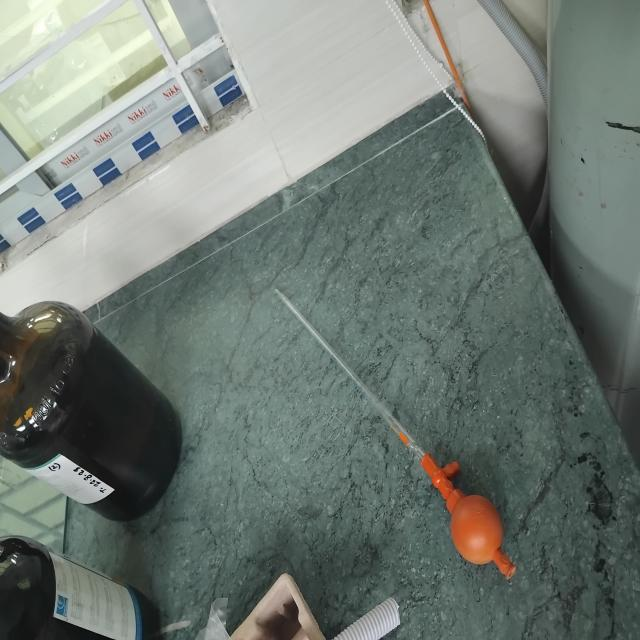Volumetric_Pipet: (246, 228, 537, 605)
